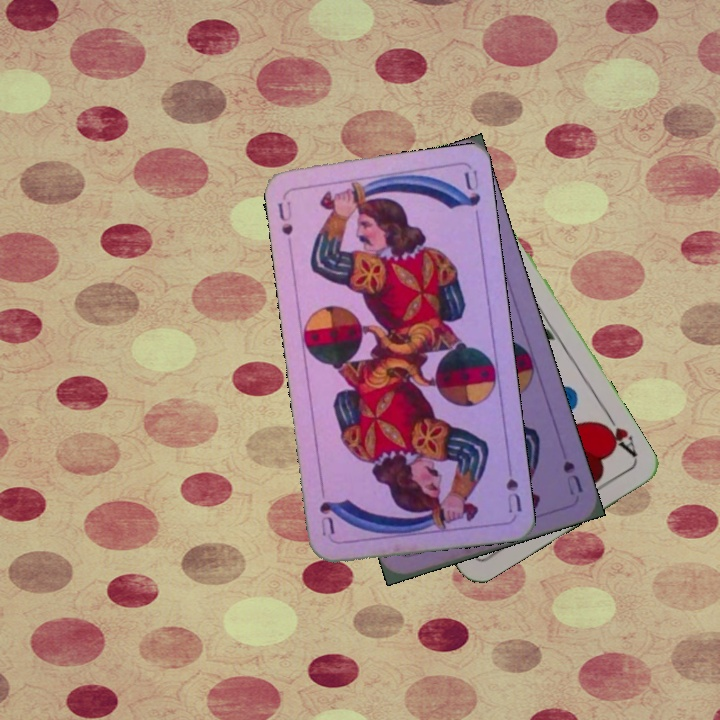HA: (595, 408, 641, 460)
SU: (502, 456, 524, 516), (559, 456, 586, 498), (274, 197, 296, 238)
